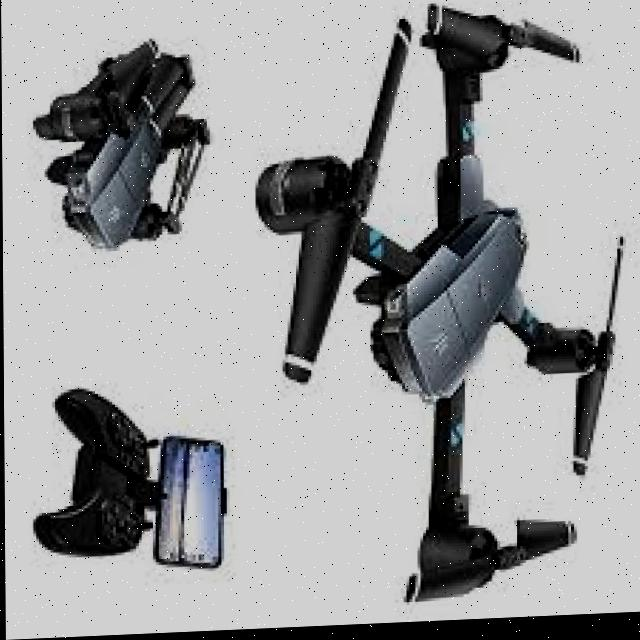drone: (253, 0, 627, 631)
